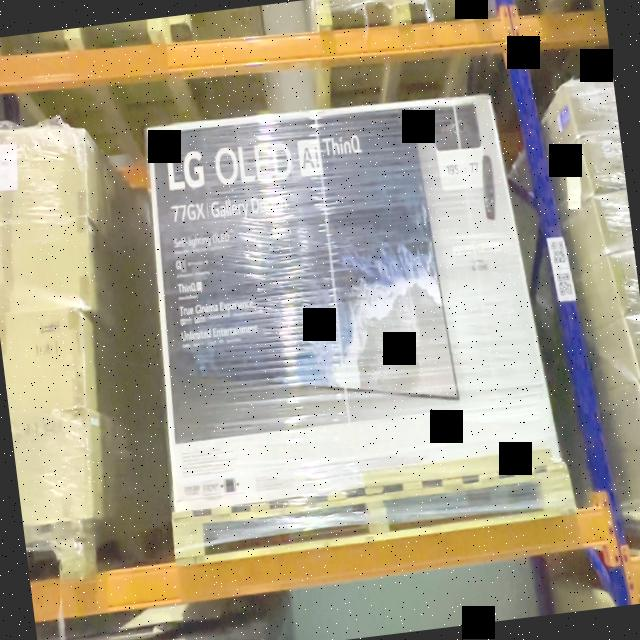box: (148, 93, 538, 508), (570, 77, 618, 132), (586, 130, 626, 194)
